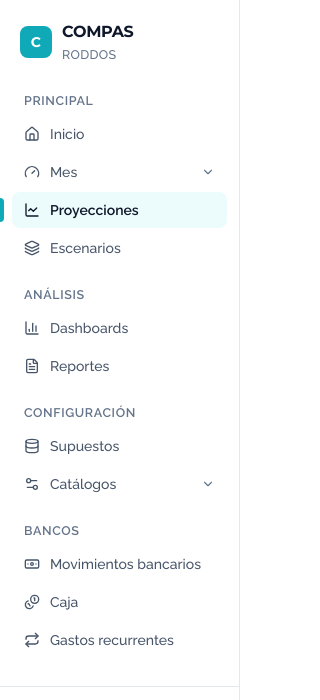
RV-V6/V7 · Fase B del navegador (19→11 entradas) › el clic en el grupo colapsable lo abre y expone los sub-items
// Clic vía RTL (dispara el handler de React y aplica el state update)
Step 1. Click the button "Mes" → (120, 172), box [12,154,227,190]
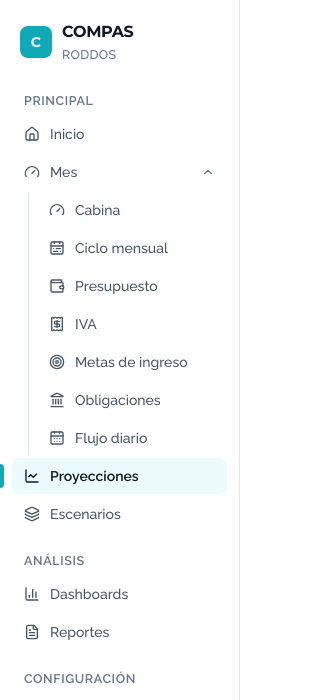
Now the link "Presupuesto" is shown, box [49,278,158,294]
Now the button "Mes" is expanded, box [12,154,227,190]
